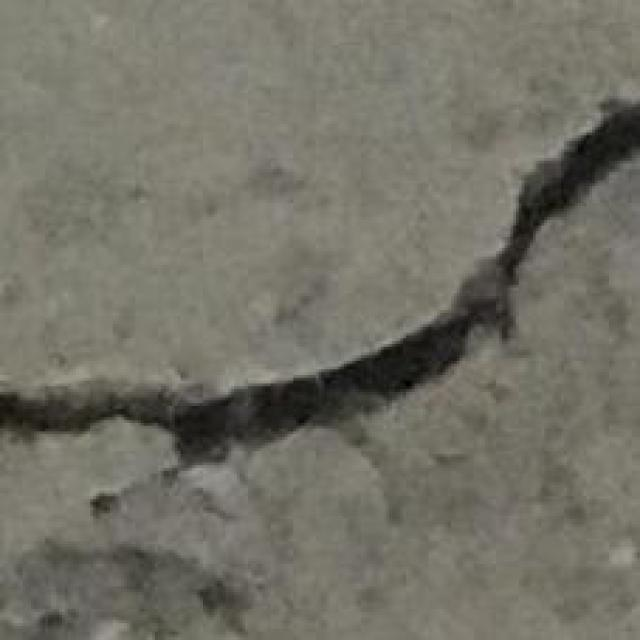diagonal crack: (0, 102, 639, 464)
